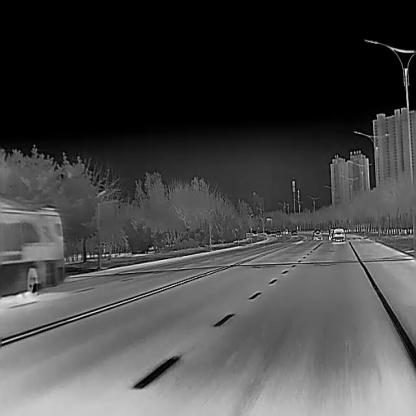bus: (0, 198, 64, 298)
car: (332, 227, 345, 242), (312, 228, 322, 240), (290, 229, 298, 237)
